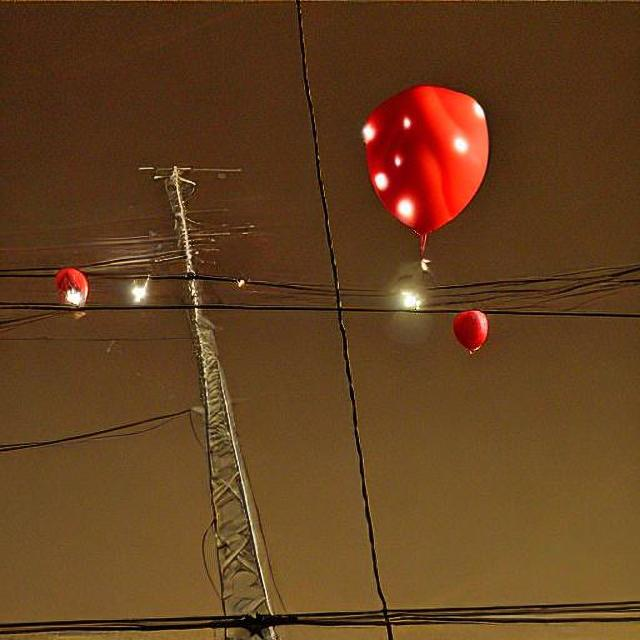balloon: (355, 82, 490, 276), (446, 305, 490, 358)
floating object: (51, 265, 90, 307)
